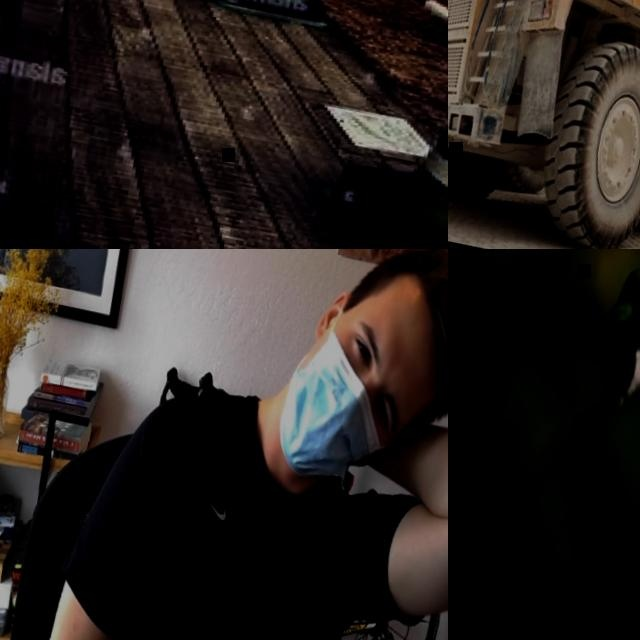Mask: (271, 327, 405, 489)
NO-Hardhat: (376, 249, 448, 410)
NO-Safety Vest: (93, 394, 370, 640)
Person: (25, 249, 448, 640)
Safety Cone: (297, 0, 448, 249)
machinery: (448, 0, 640, 249)
